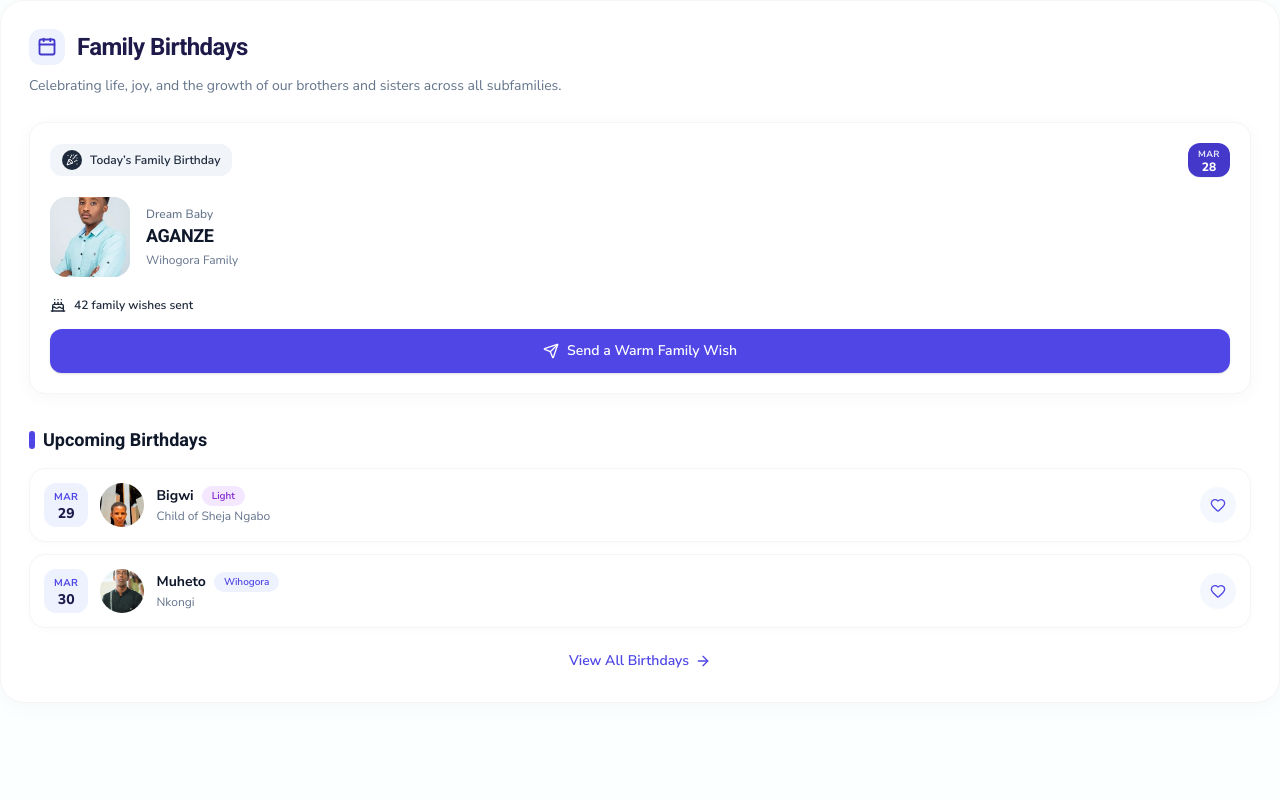
Test: BirthdaysPanel › sends a wish in place, without an email link, and says it is kept on the device
Click the button "Send a Warm Family Wish": [640, 351] box x1=50 y1=329 x2=1230 y2=373
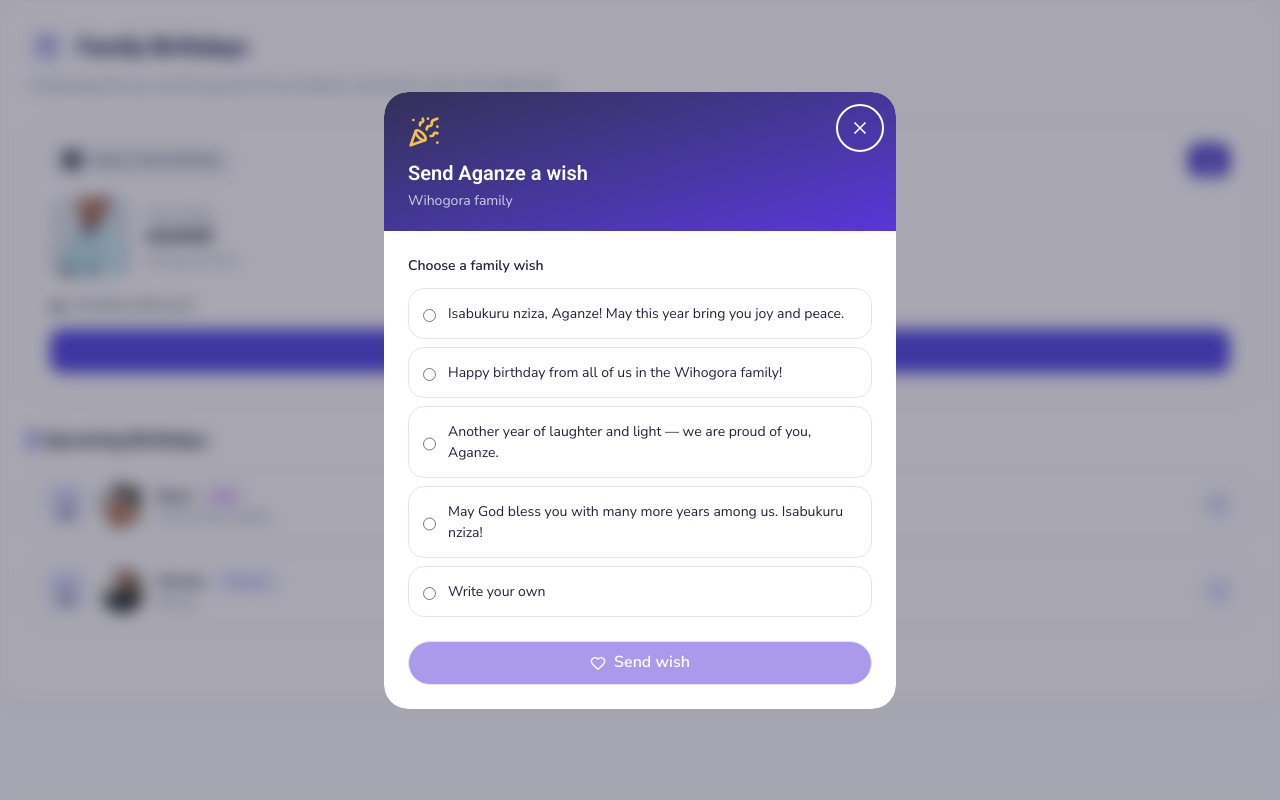
Click the 1st radio button: [430, 315] box x1=423 y1=306 x2=436 y2=324
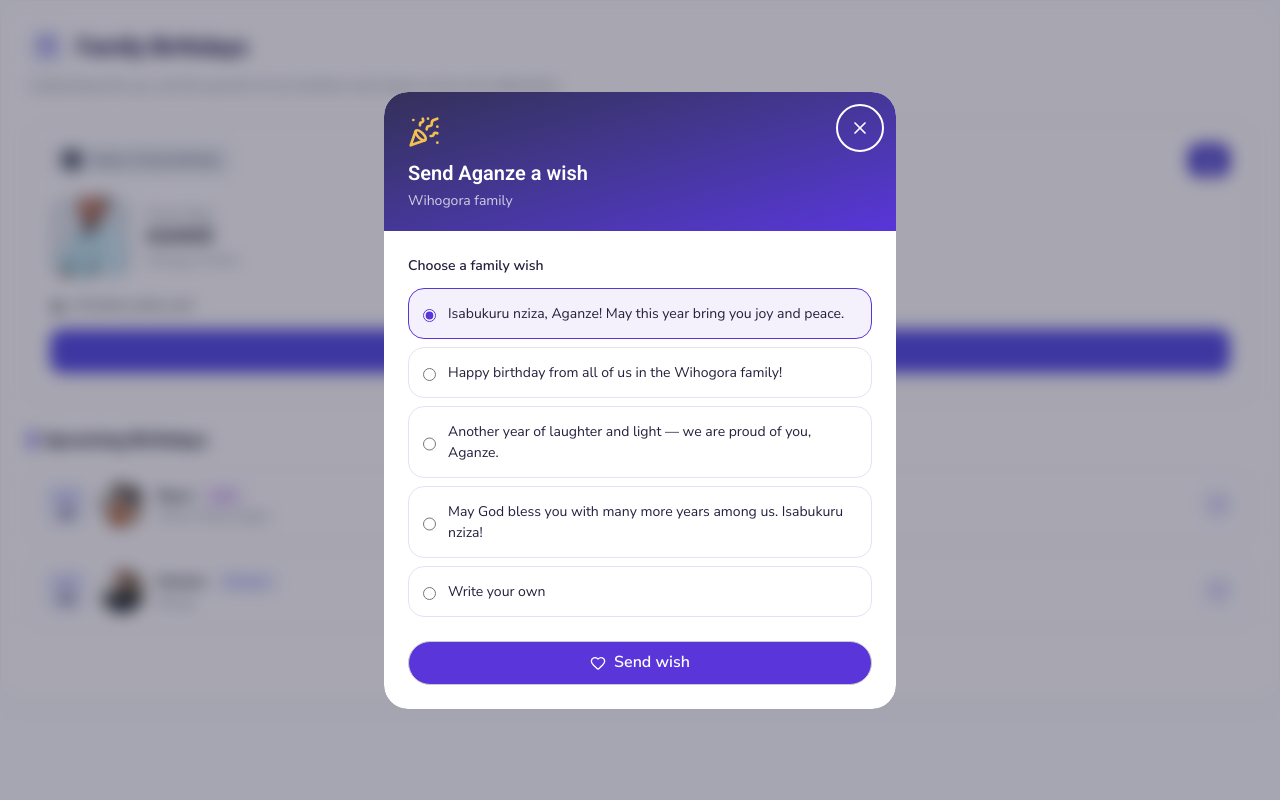
Click the button "Send wish": [640, 662] box x1=408 y1=640 x2=872 y2=684
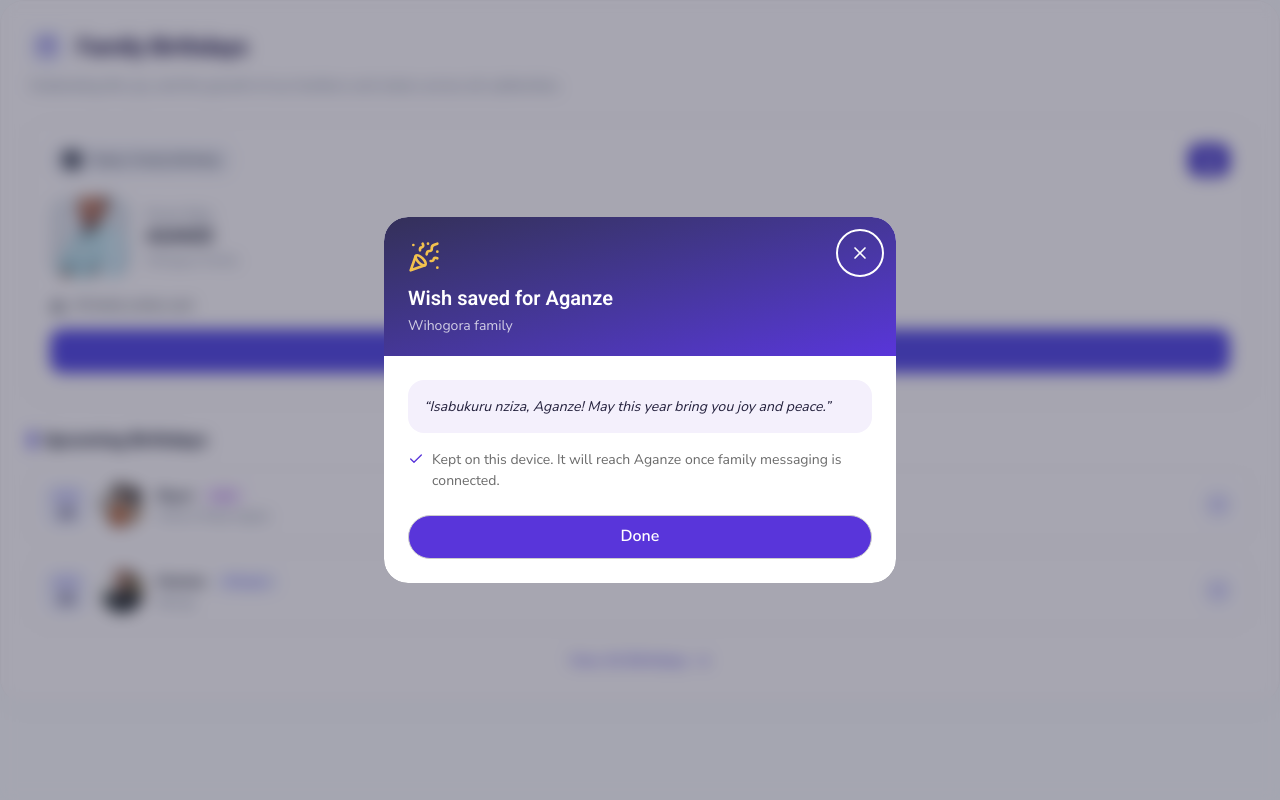
Expected: the message shows "Kept on this device", x1=432 y1=450 x2=634 y2=469
